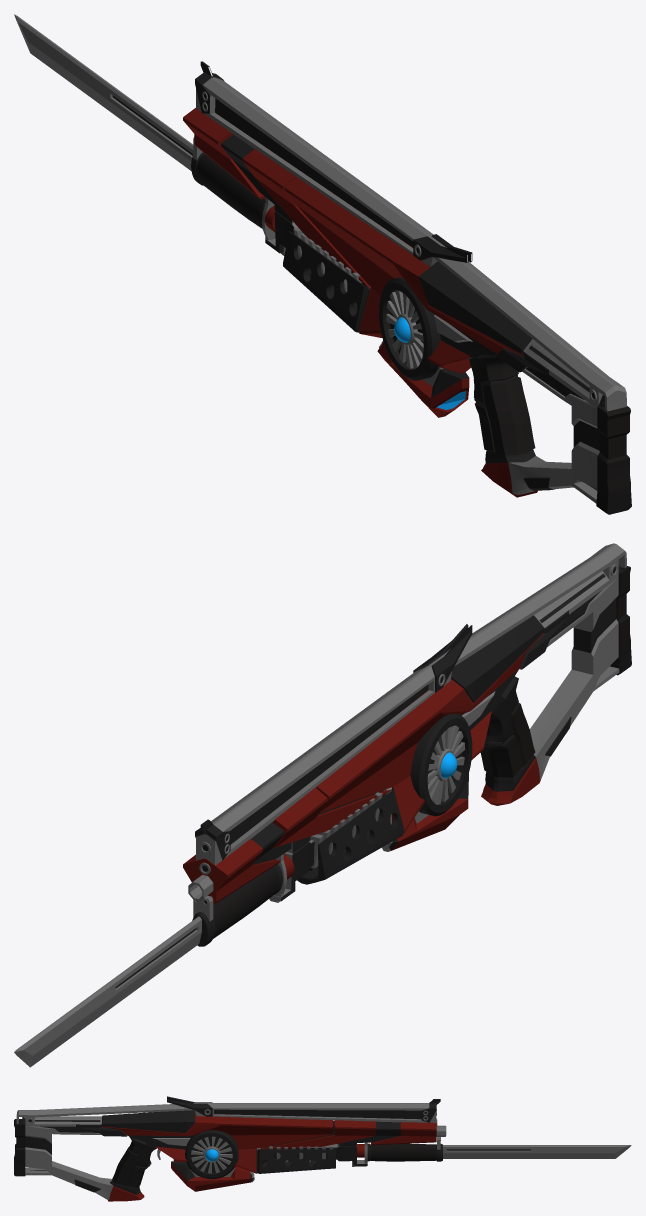
The model's file is LineRifleMKX.fbx.
The picture shows the model from 3 angles, top to bottom: view 1: azimuth 30°, elevation 25°; view 2: azimuth 150°, elevation 25°; view 3: azimuth 270°, elevation 25°; orthographic projection. The views are drawn at different scales.
Visible parts, largest first — view 1: Gun, Vent Cover, Battery, Reactor; view 2: Gun, Vent Cover, Reactor, Battery; view 3: Gun, Vent Cover, Reactor, Battery.
Part boxes in pixels (x1,y1,x2,y2): Gun: (14,14,631,514); Vent Cover: (419,261,532,354); Battery: (377,340,469,417); Reactor: (386,290,423,368); Gun: (14,543,631,1067); Vent Cover: (451,615,544,702); Reactor: (427,725,465,804); Battery: (382,773,468,851); Gun: (14,1096,631,1201); Vent Cover: (102,1110,195,1133); Reactor: (191,1136,232,1173); Battery: (171,1161,254,1191).
Bounding box in the file's own units: 148 × 475 × 2610.
